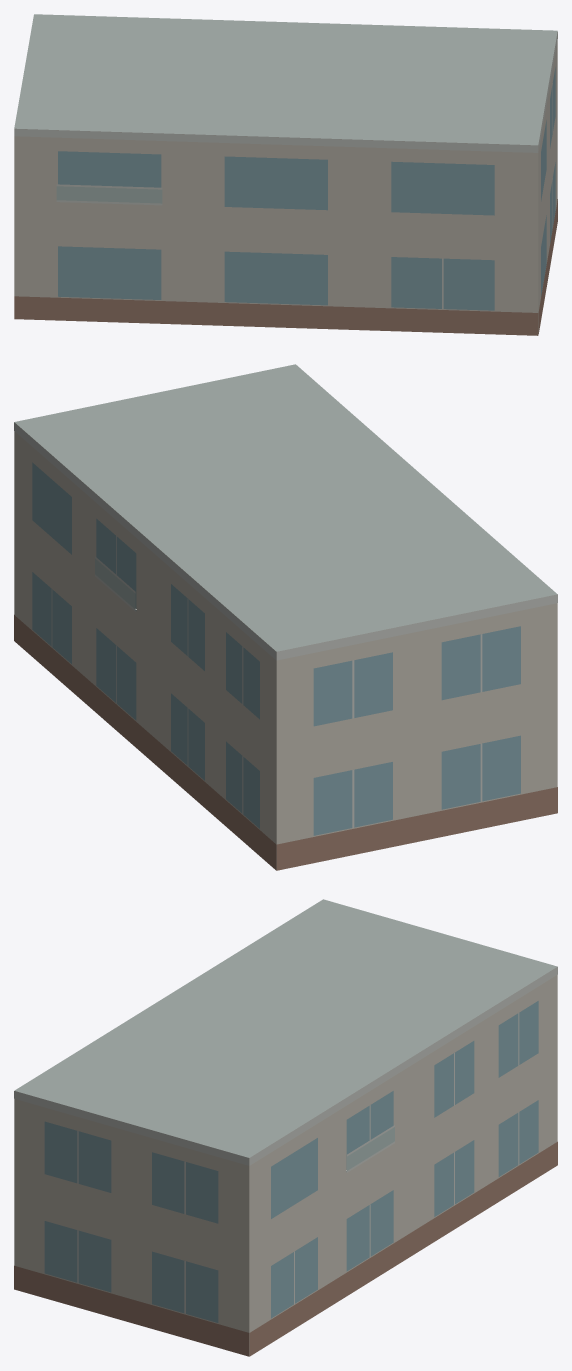
The model's file is survey-upis-32707461.glb.
3 renders of one model, top to bottom at view 1: azimuth 30°, elevation 25°; view 2: azimuth 150°, elevation 25°; view 3: azimuth 270°, elevation 25°, orthographic. The views are drawn at different scales.
Visible parts, largest first — view 1: survey-upis-32707461.tmp; view 2: survey-upis-32707461.tmp; view 3: survey-upis-32707461.tmp.
Part boxes in pixels (x1,y1,x2,y2): survey-upis-32707461.tmp: (14, 14, 557, 335); survey-upis-32707461.tmp: (14, 364, 557, 870); survey-upis-32707461.tmp: (14, 899, 557, 1356).
Bounding box in the file's own units: 17.05 × 6.1 × 15.14.
